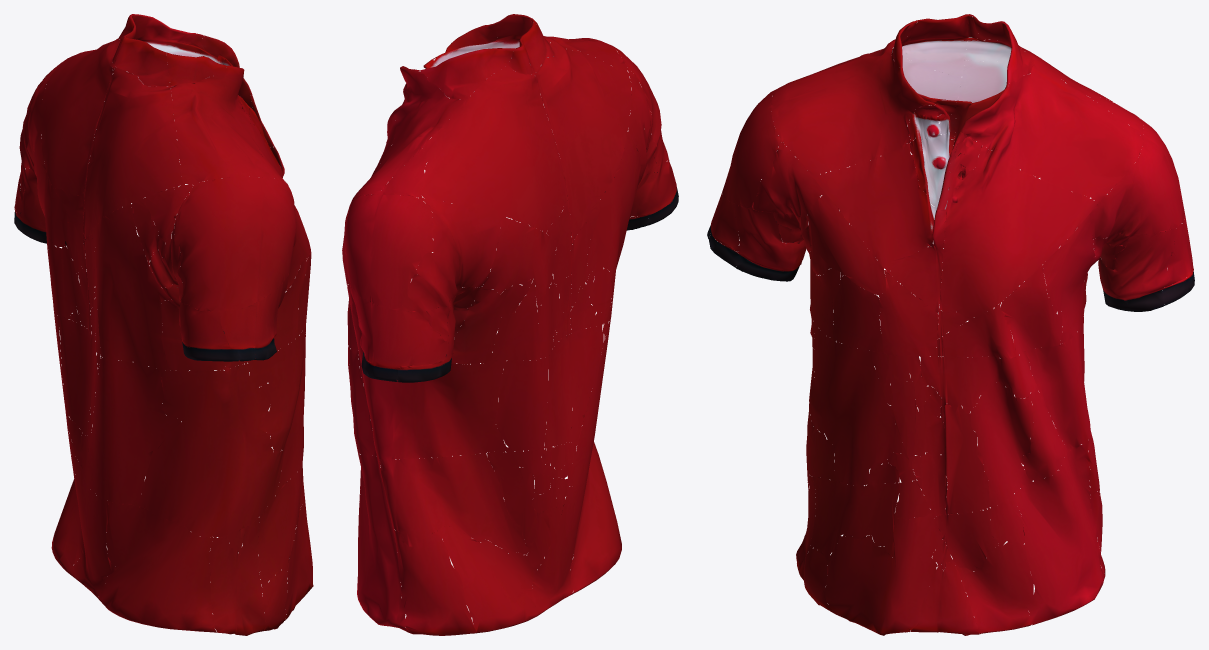
The model's file is cami.glb.
The picture shows the model from 3 angles, left to right: view 1: azimuth 30°, elevation 25°; view 2: azimuth 150°, elevation 25°; view 3: azimuth 270°, elevation 25°; orthographic projection.
Parts seen in each view (by area): view 1: tripo_node_98983380-da1e-4cad-97df-9b3ee6c5e4c8; view 2: tripo_node_98983380-da1e-4cad-97df-9b3ee6c5e4c8; view 3: tripo_node_98983380-da1e-4cad-97df-9b3ee6c5e4c8.
Part boxes in pixels (box(x1,y1,x2,y2)): tripo_node_98983380-da1e-4cad-97df-9b3ee6c5e4c8: box(14, 14, 313, 635); tripo_node_98983380-da1e-4cad-97df-9b3ee6c5e4c8: box(342, 14, 678, 635); tripo_node_98983380-da1e-4cad-97df-9b3ee6c5e4c8: box(707, 14, 1194, 635).
Bounding box in the file's own units: 0.3899 × 0.978 × 0.7743.
1 material, 1 textured.
